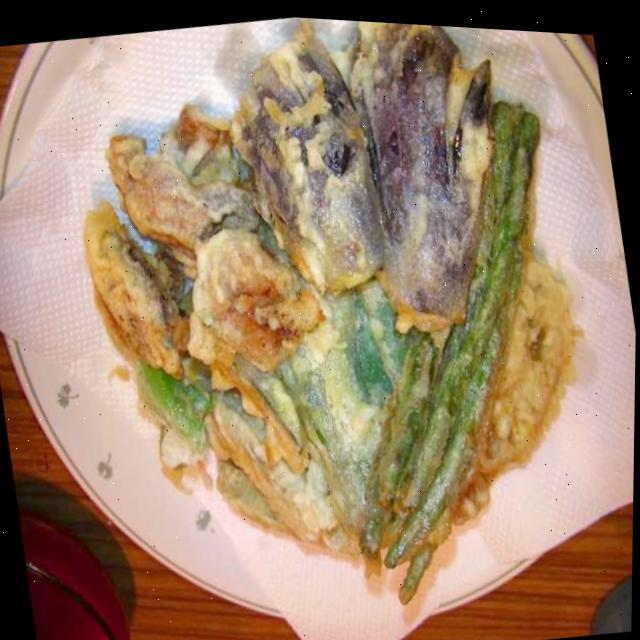蔬菜料理: (38, 2, 618, 640)
